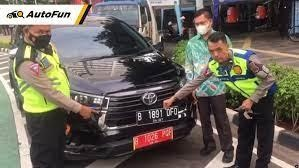plate: (133, 126, 175, 151), (136, 105, 180, 127)
